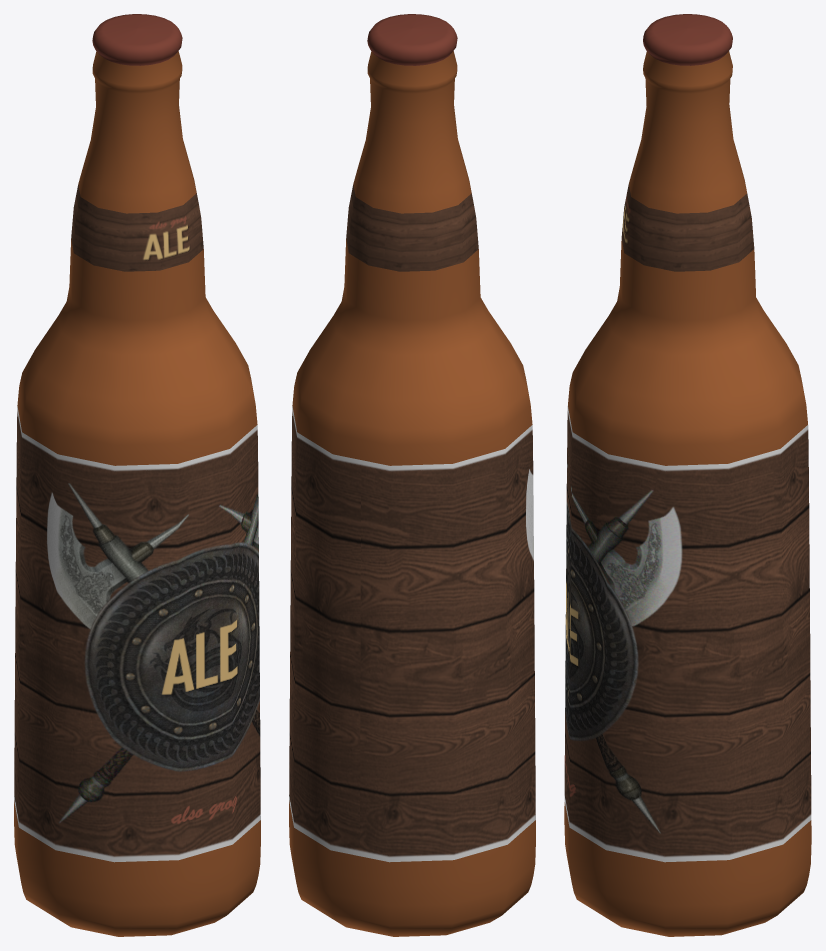
File: beer.glb
3 views of the same model, side by side, from view 1: azimuth 30°, elevation 25°; view 2: azimuth 150°, elevation 25°; view 3: azimuth 270°, elevation 25° (orthographic).
Visible parts, largest first — view 1: beerbottle; view 2: beerbottle; view 3: beerbottle.
Boxes of the visible parts, x1=… form: beerbottle: x1=14, y1=14, x2=260, y2=936; beerbottle: x1=289, y1=14, x2=535, y2=936; beerbottle: x1=564, y1=14, x2=811, y2=936.
Bounding box in the file's own units: 5.88 × 23.03 × 5.88.
Materials: 1 (1 with a texture image).
